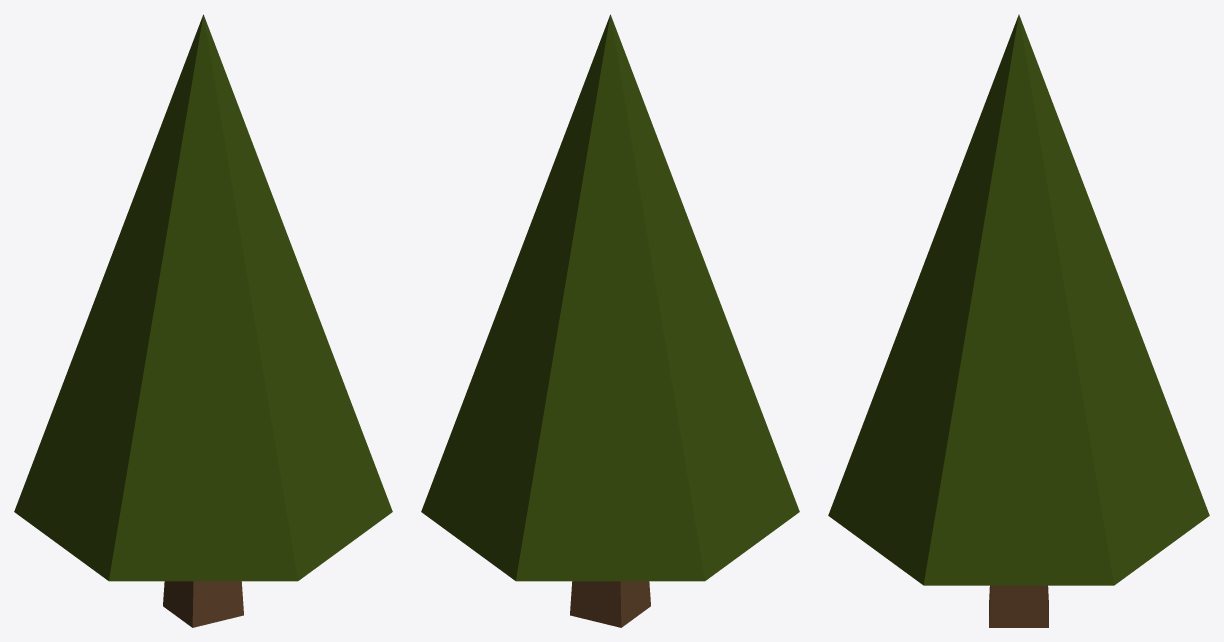
The model's file is PR_pineTreeVar2_01.fbx.
3 views of the same model, side by side, from view 1: azimuth 30°, elevation 25°; view 2: azimuth 150°, elevation 25°; view 3: azimuth 270°, elevation 25° (orthographic).
Visible parts, largest first — view 1: Cone.005, PR_pineTreeVar2_01; view 2: Cone.005, PR_pineTreeVar2_01; view 3: Cone.005, PR_pineTreeVar2_01.
Part boxes in pixels (x1,y1,x2,y2): Cone.005: (14,14,392,581); PR_pineTreeVar2_01: (163,581,243,627); Cone.005: (421,14,799,581); PR_pineTreeVar2_01: (570,581,650,627); Cone.005: (828,14,1209,585); PR_pineTreeVar2_01: (989,585,1048,627).
Bounding box in the file's own units: 320 × 643 × 370.
